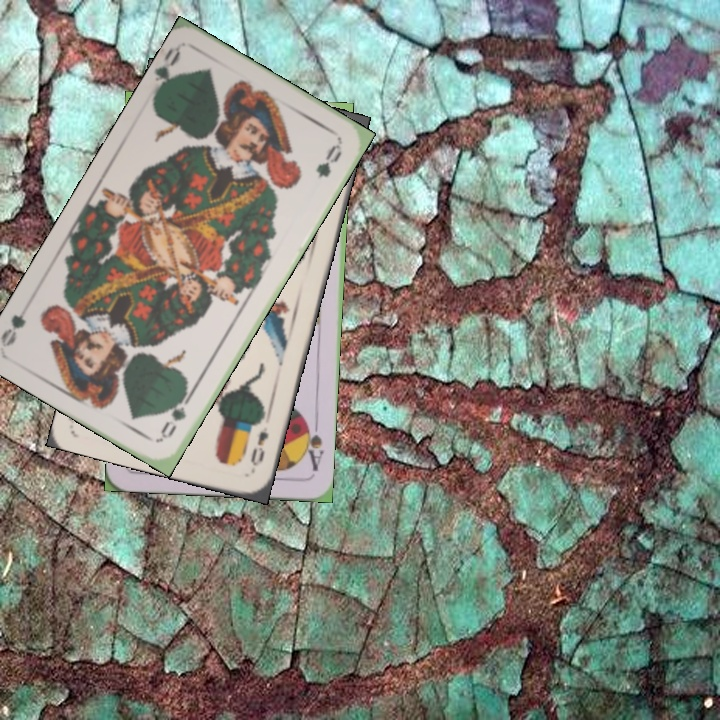EO: (246, 414, 272, 469)
GO: (156, 387, 195, 442), (149, 42, 186, 99)
SA: (299, 416, 326, 473)
